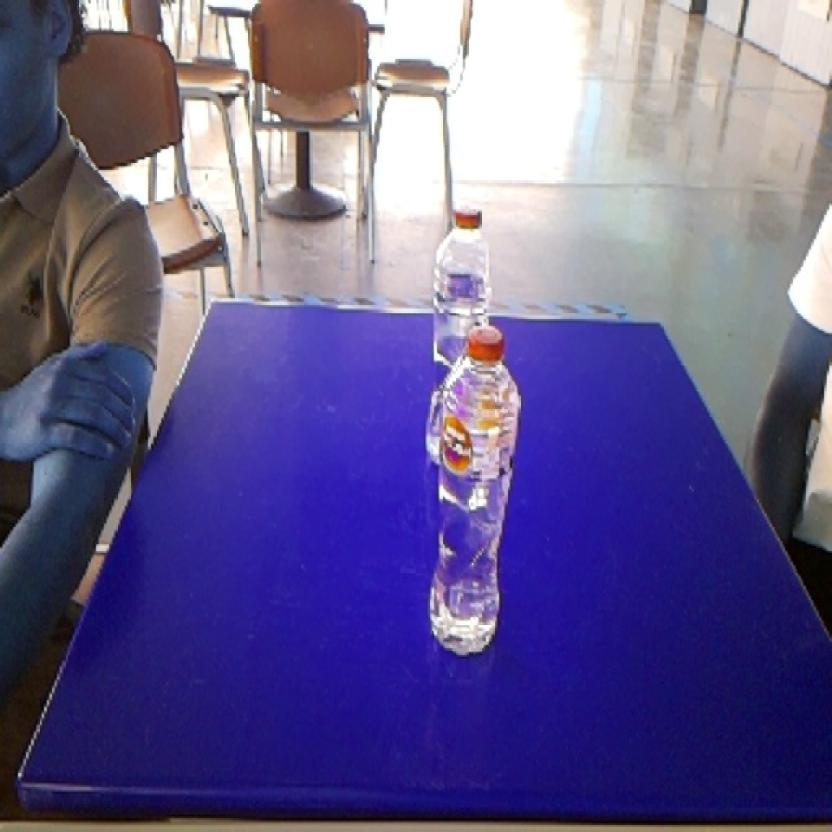good: (424, 321, 530, 669)
no_label: (428, 191, 500, 321)
